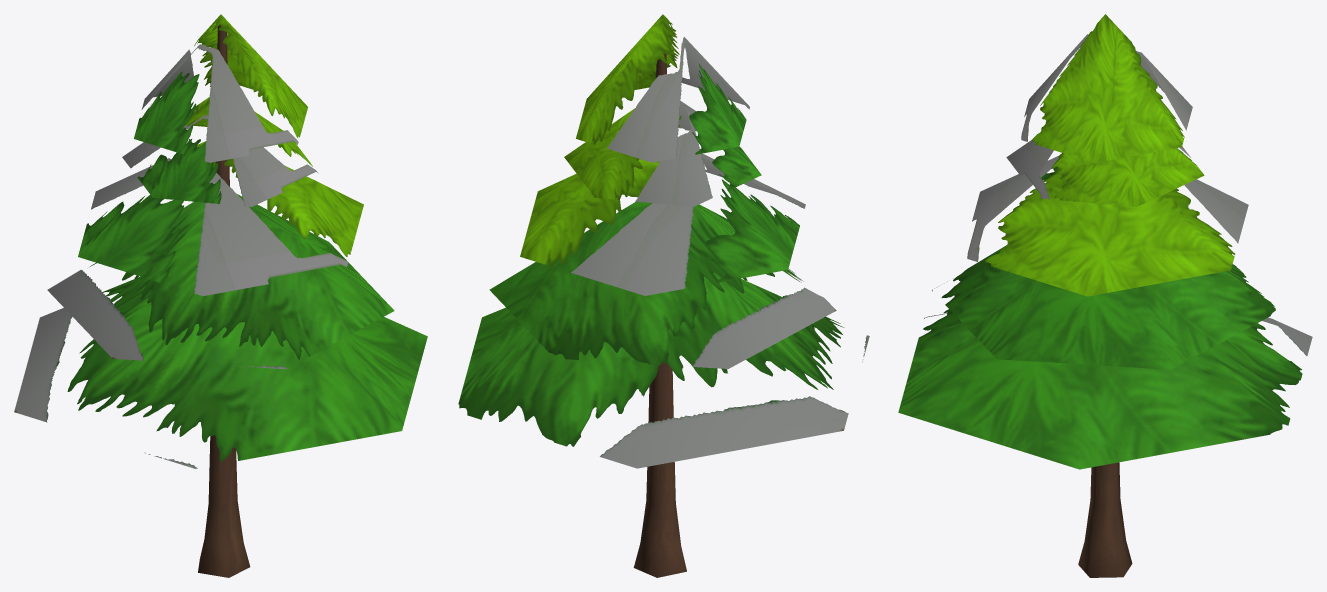
The model's file is difuchangjing_shu01.FBX.
3 views of the same model, side by side, from view 1: azimuth 30°, elevation 25°; view 2: azimuth 150°, elevation 25°; view 3: azimuth 270°, elevation 25° (orthographic).
Visible parts, largest first — view 1: difuchangjing_shu01; view 2: difuchangjing_shu01; view 3: difuchangjing_shu01.
Part boxes in pixels (left/top/right/bottom): difuchangjing_shu01: left=14, top=14, right=427, bottom=577; difuchangjing_shu01: left=458, top=14, right=869, bottom=577; difuchangjing_shu01: left=898, top=14, right=1312, bottom=577.
Bounding box in the file's own units: 731 × 995 × 675.
